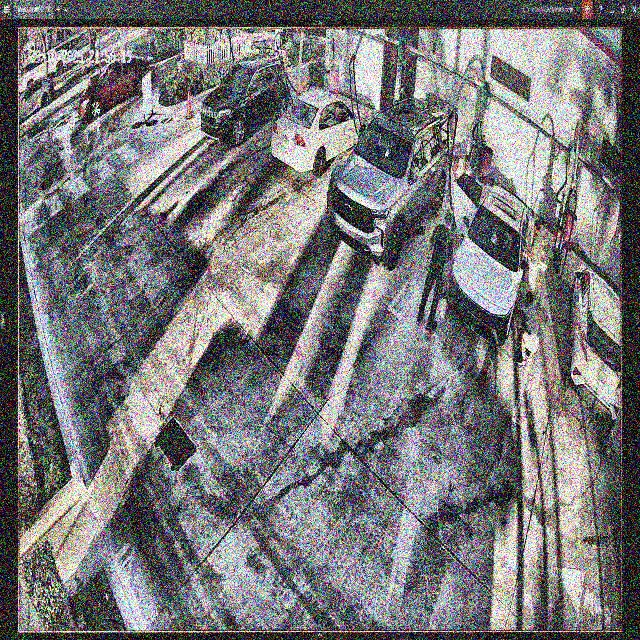Car: (327, 99, 452, 268), (450, 180, 534, 340), (200, 52, 291, 148), (272, 88, 368, 178)
